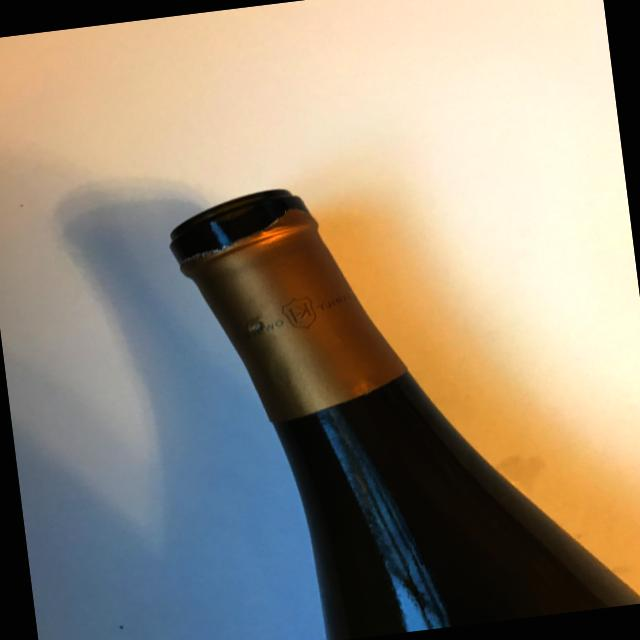Glass: (160, 143, 640, 640)
